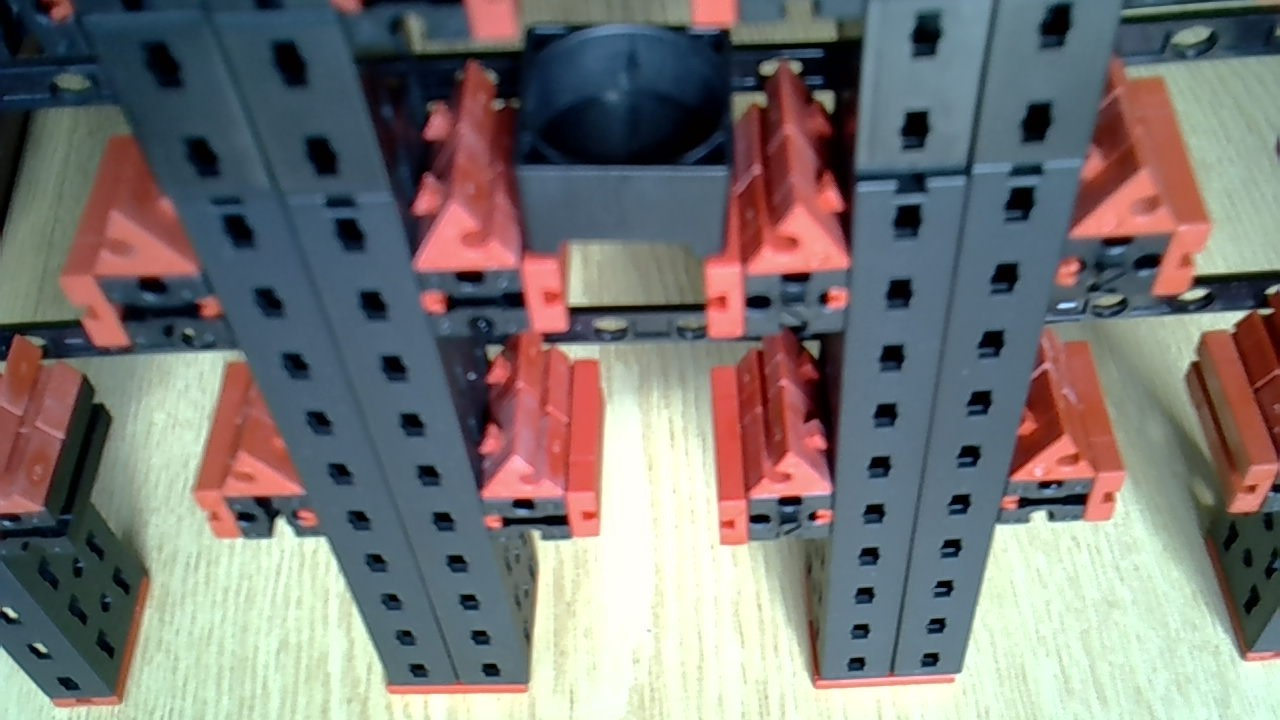Behaelter: (517, 26, 733, 251)
